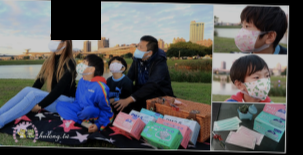with_mask: (245, 69, 272, 101), (233, 22, 259, 53), (74, 58, 89, 76), (47, 35, 62, 52), (132, 41, 145, 59), (108, 60, 122, 73)
